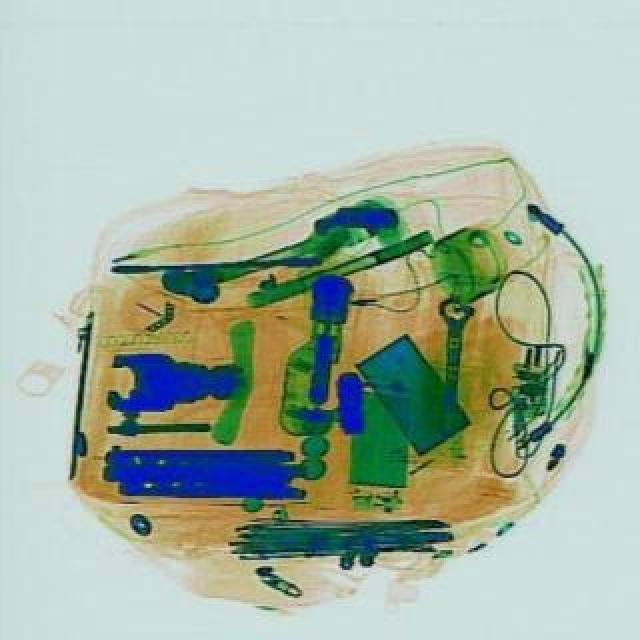scissors: (424, 294, 472, 438)
